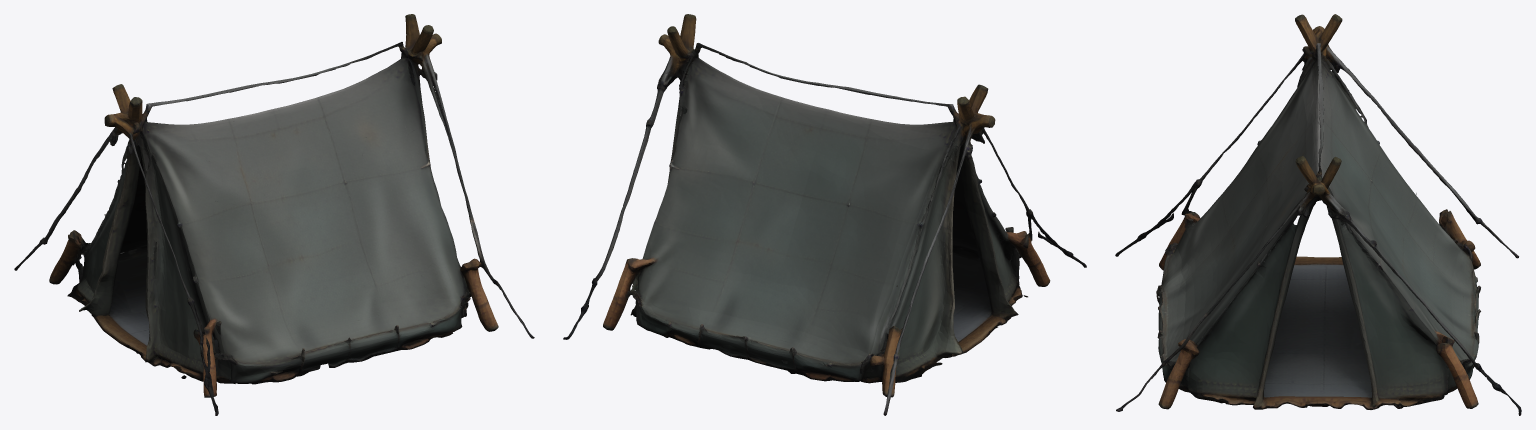
Rendered from tienda.glb.
The picture shows the model from 3 angles, left to right: view 1: azimuth 30°, elevation 25°; view 2: azimuth 150°, elevation 25°; view 3: azimuth 270°, elevation 25°; orthographic projection.
Visible parts, largest first — view 1: world; view 2: world; view 3: world.
Boxes of the visible parts, x1,y1,x2,y2 form: world: (14, 14, 534, 415); world: (563, 14, 1086, 415); world: (1115, 14, 1521, 415).
Bounding box in the file's own units: 0.9482 × 0.69 × 1.
Materials: 1 (1 with a texture image).
